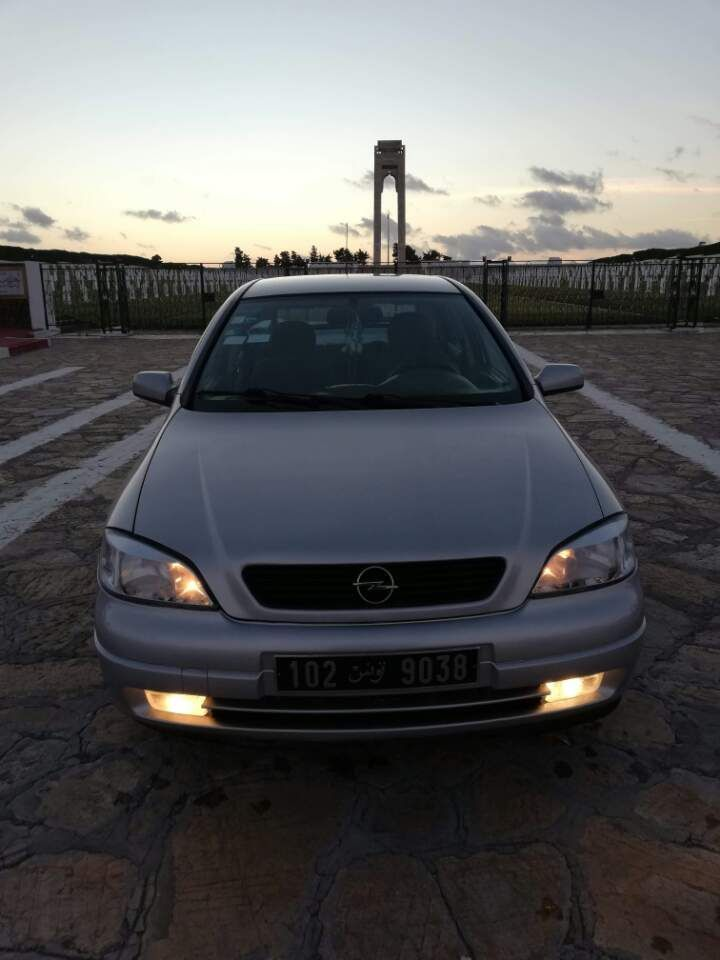LP: (272, 651, 485, 693)
